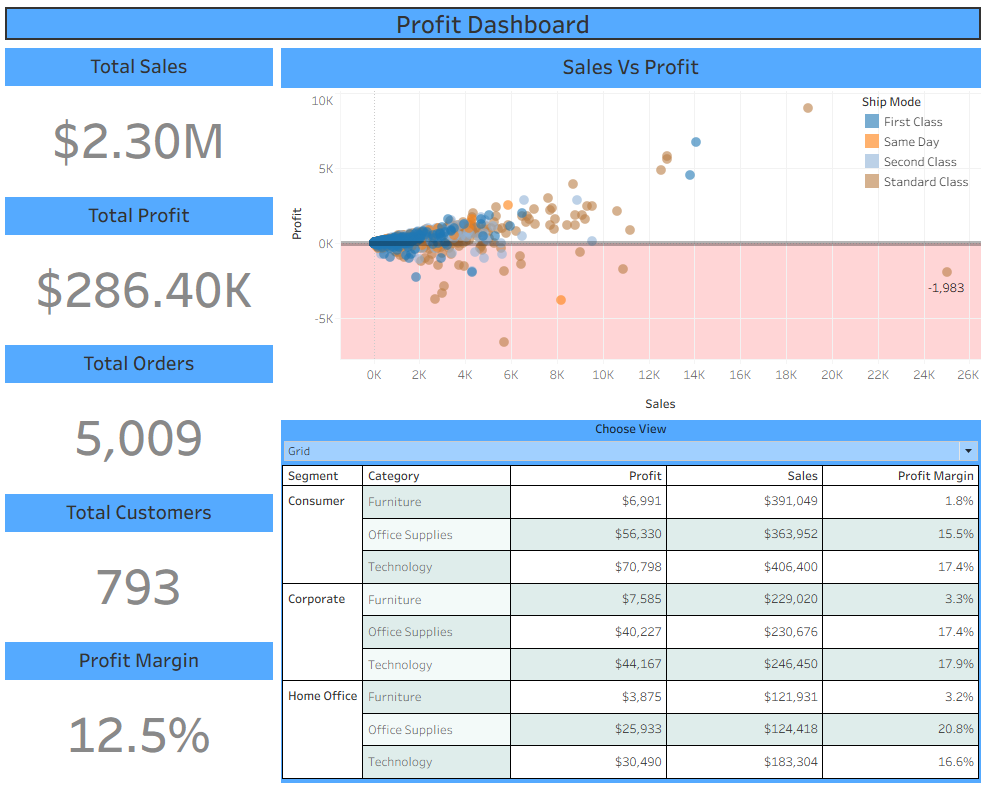

Layout of this report page (visuals, bound fields, positions):
{"tool":"tableau","page":{"name":"Profit Dashboard","canvas":[1000,800],"ordinal":0},"visuals":[{"type":"title","box":[8,8,984,41]},{"type":"worksheet","title":"KPI Sales","mark":"Automatic","box":[8,49,276,148.6]},{"type":"worksheet","title":"Sales Vs Profit","mark":"Automatic","rows":["Profit"],"cols":["Sales"],"box":[284,49,708,371.5]},{"type":"worksheet","title":"Total Profit","mark":"Automatic","box":[8,197.6,276,148.6]},{"type":"worksheet","title":"Total Orders","mark":"Automatic","box":[8,346.2,276,148.6]},{"type":"parameter","param":"[Parameters].[Parameter 0142431409278976]","box":[284,420.5,708,371.5]},{"type":"worksheet","title":"Grid","mark":"Automatic","rows":["Segment","Category"],"box":[289,470,697,314]},{"type":"worksheet","title":"Profit by Customer Segment","mark":"Automatic","rows":["Sub-Category"],"cols":["Profit"],"box":[284,473,708,317]},{"type":"worksheet","title":"Total Customers","mark":"Automatic","box":[8,494.8,276,148.6]},{"type":"worksheet","title":"Profit Margin","mark":"Automatic","box":[8,643.4,276,148.6]}]}

Visuals, with their boxes in screenshot pixels (x1, y1, x2, y2), scaled from the page's 1000x800 canvas onto the 985x787 screenshot:
title: <region>8, 8, 977, 48</region>
"KPI Sales" worksheet: <region>8, 48, 280, 194</region>
"Sales Vs Profit" worksheet: <region>280, 48, 977, 414</region>
"Total Profit" worksheet: <region>8, 194, 280, 341</region>
"Total Orders" worksheet: <region>8, 341, 280, 487</region>
parameter: <region>280, 414, 977, 779</region>
"Grid" worksheet: <region>285, 462, 971, 771</region>
"Profit by Customer Segment" worksheet: <region>280, 465, 977, 777</region>
"Total Customers" worksheet: <region>8, 487, 280, 633</region>
"Profit Margin" worksheet: <region>8, 633, 280, 779</region>
